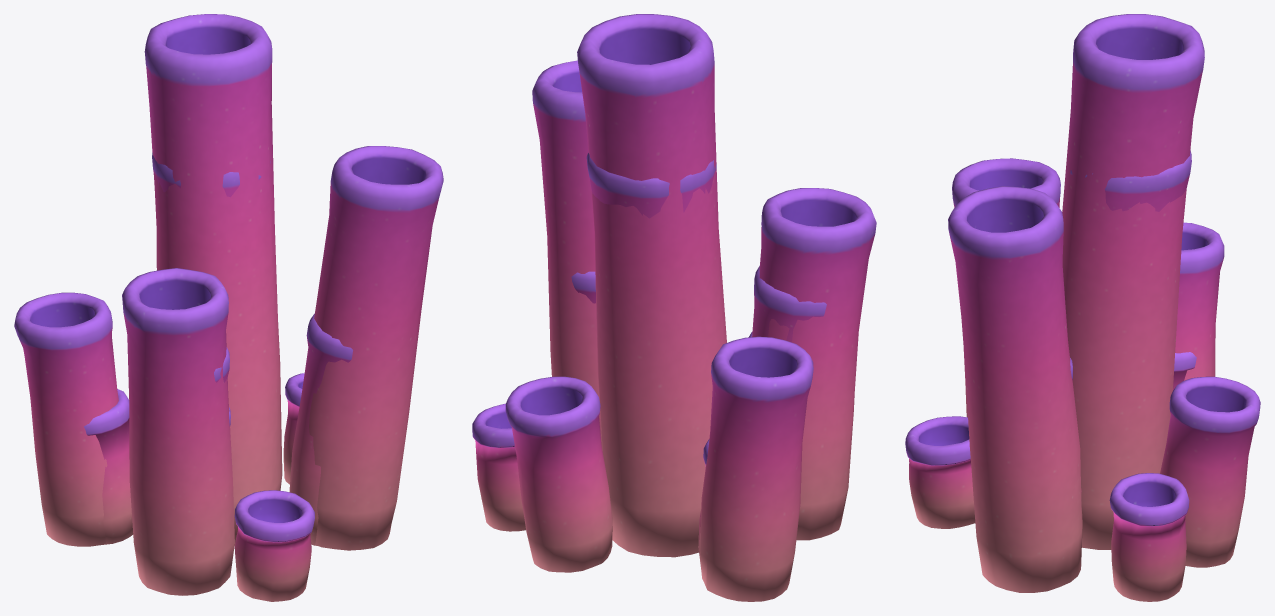
The model's file is TubeSponge_Magenta.fbx.
3 views of the same model, side by side, from view 1: azimuth 30°, elevation 25°; view 2: azimuth 150°, elevation 25°; view 3: azimuth 270°, elevation 25° (orthographic). The views are drawn at different scales.
Parts seen in each view (by area): view 1: TubeSponge_Magenta_S3, TubeSponge_Magenta_S2; view 2: TubeSponge_Magenta_S3, TubeSponge_Magenta_S2; view 3: TubeSponge_Magenta_S3, TubeSponge_Magenta_S2.
Boxes of the visible parts, x1,y1,x2,y2 form: TubeSponge_Magenta_S3: (14, 14, 443, 601); TubeSponge_Magenta_S2: (84, 152, 352, 545); TubeSponge_Magenta_S3: (472, 14, 876, 601); TubeSponge_Magenta_S2: (571, 153, 826, 579); TubeSponge_Magenta_S3: (905, 14, 1260, 601); TubeSponge_Magenta_S2: (1070, 150, 1196, 493).
Size of the model in its own units: 0.3829 by 0.529 by 0.343.
